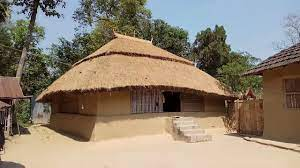Mud House: (38, 30, 241, 147)
